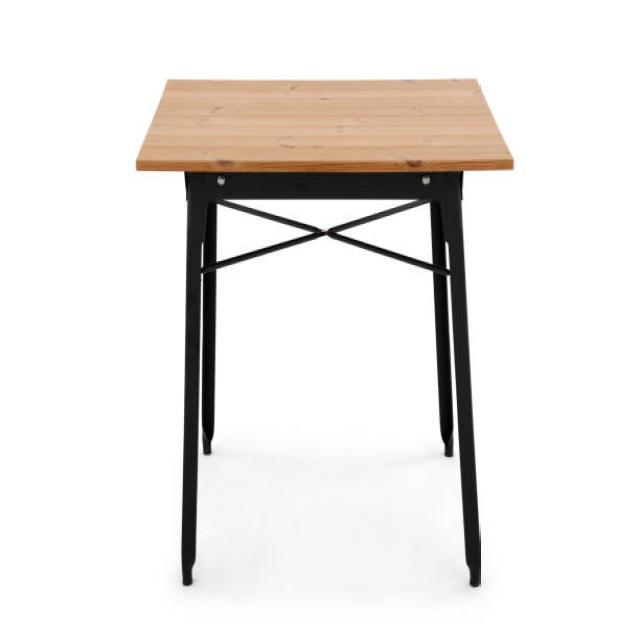table: (135, 76, 514, 588)
